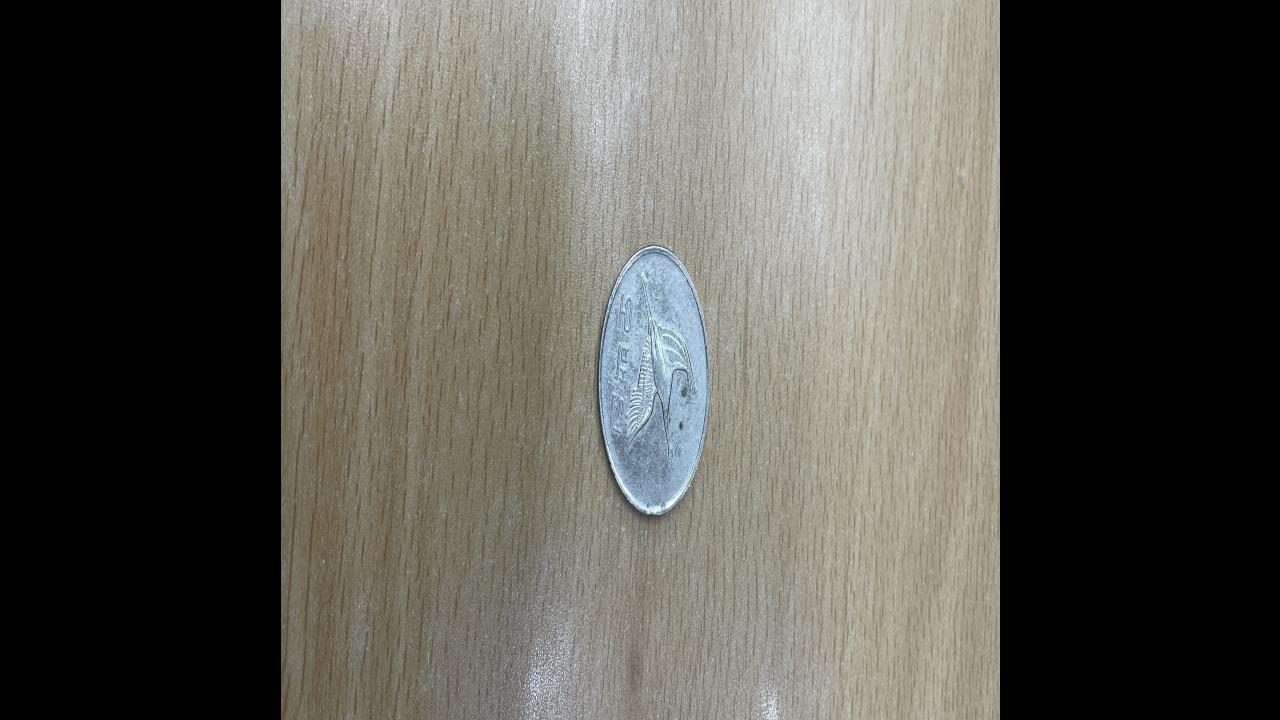coin: (598, 242, 711, 520)
